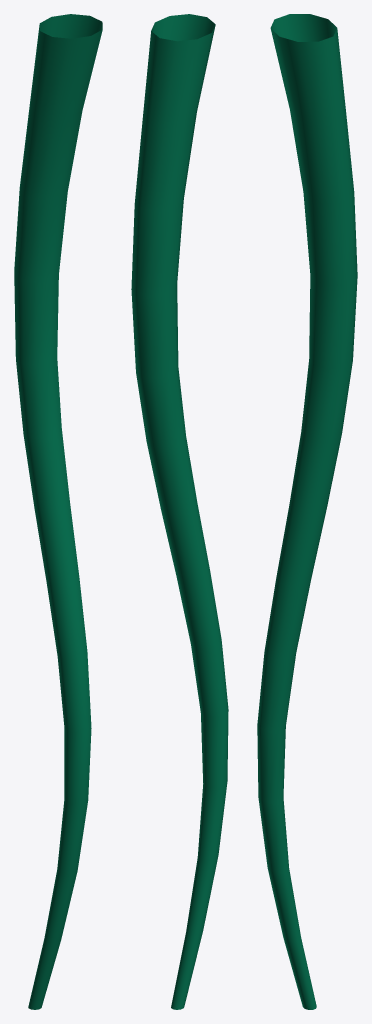
The model's file is ShortVine_01.fbx.
3 views of the same model, side by side, from view 1: azimuth 90°, elevation 25°; view 2: azimuth 150°, elevation 25°; view 3: azimuth 330°, elevation 25° (orthographic). The views are drawn at different scales.
Parts seen in each view (by area): view 1: shortNormalVine_01; view 2: shortNormalVine_01; view 3: shortNormalVine_01.
Boxes of the visible parts, box(x1,y1,x2,y2) form: shortNormalVine_01: box(14, 14, 102, 1009); shortNormalVine_01: box(131, 14, 228, 1009); shortNormalVine_01: box(257, 14, 357, 1009).
Bounding box in the file's own units: 0.6997 × 8.95 × 0.7354.
